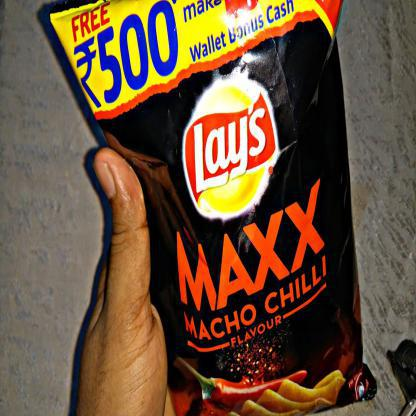max_chili: (64, 13, 374, 395)
